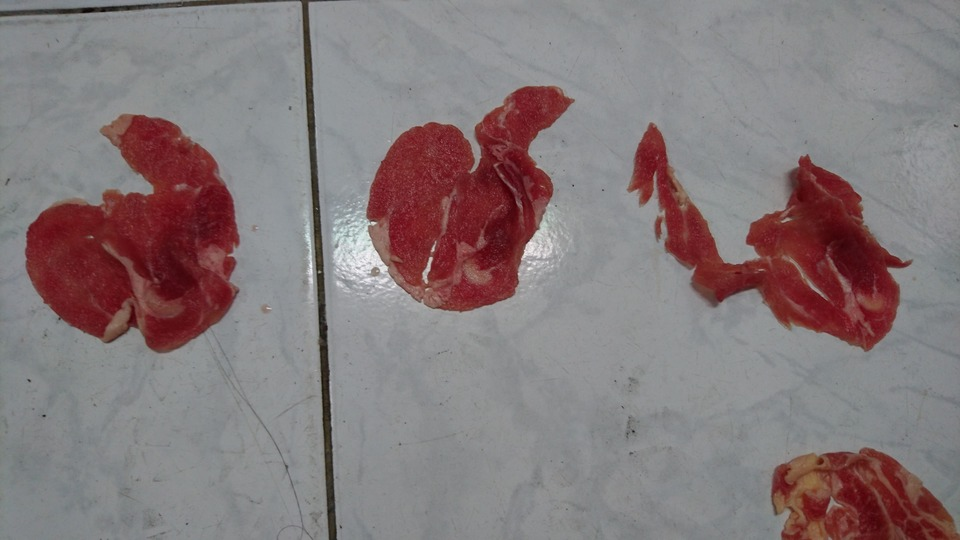restructured meat: (615, 122, 909, 342), (29, 108, 244, 354), (359, 81, 567, 318), (746, 435, 954, 539)
